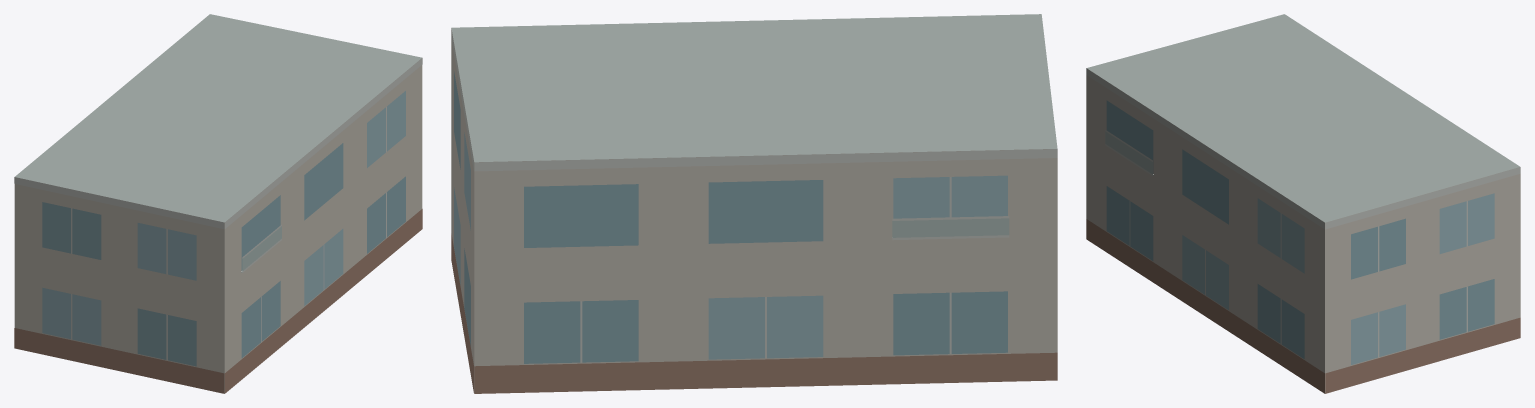
The model's file is survey-upis-32619352.glb.
The picture shows the model from 3 angles, left to right: view 1: azimuth 30°, elevation 25°; view 2: azimuth 150°, elevation 25°; view 3: azimuth 270°, elevation 25°; orthographic projection. The views are drawn at different scales.
Parts seen in each view (by area): view 1: survey-upis-32619352.tmp; view 2: survey-upis-32619352.tmp; view 3: survey-upis-32619352.tmp.
Boxes of the visible parts, x1,y1,x2,y2 form: survey-upis-32619352.tmp: (14, 14, 422, 393); survey-upis-32619352.tmp: (451, 14, 1057, 393); survey-upis-32619352.tmp: (1086, 14, 1520, 393).
Size of the model in its own units: 15.96 by 6.1 by 14.03.
